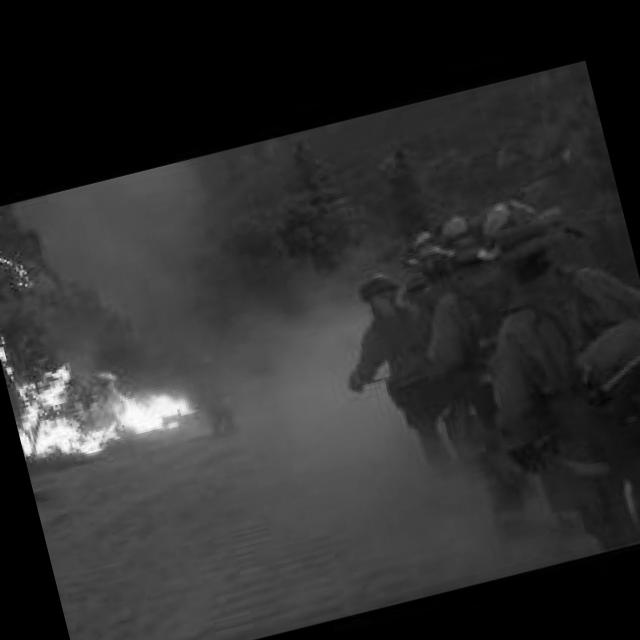fire: (0, 268, 207, 477), (0, 217, 30, 291)
